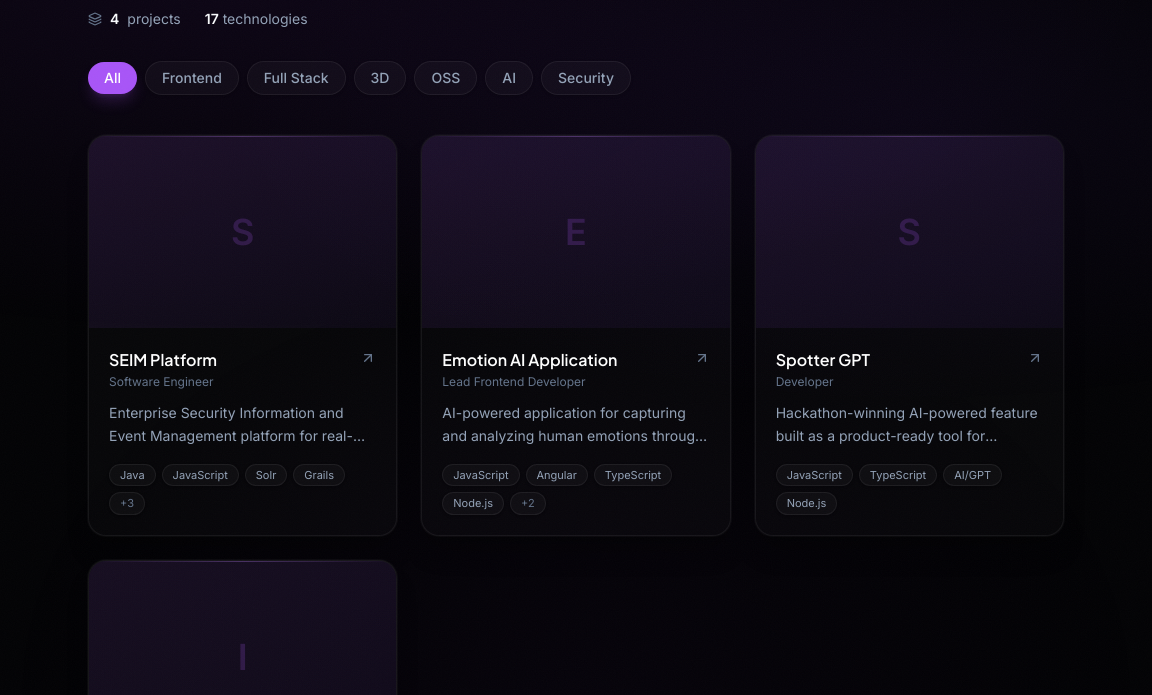
Scenario: ProjectsPage › shows case study when a project is selected
The width and height of the screenshot is (1152, 695).
(page scrolled)
# Click the project card
Click the button with aria-label "View project: SEIM Platform". click: (243, 232)
box: top-left (88, 135), bottom-right (397, 536)
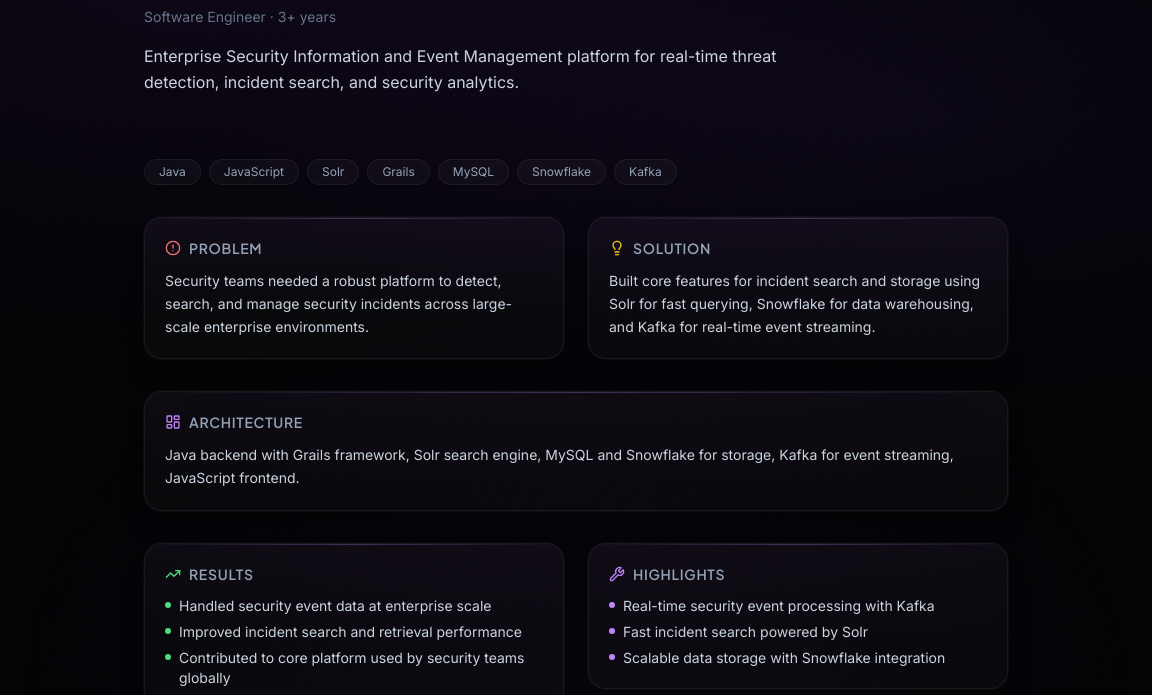
Check: the element with test id "section-problem" is shown, box top-left (144, 217), bottom-right (564, 359)
Check: the element with test id "section-solution" is shown, box top-left (588, 217), bottom-right (1008, 359)
